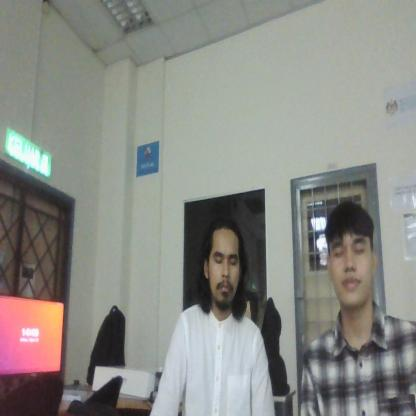Closed-Eyes: (332, 236, 371, 266), (206, 242, 242, 274)
